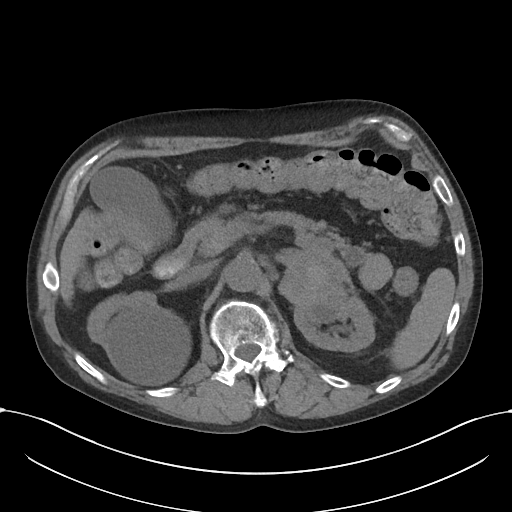Lesion: (102, 304, 194, 390)
